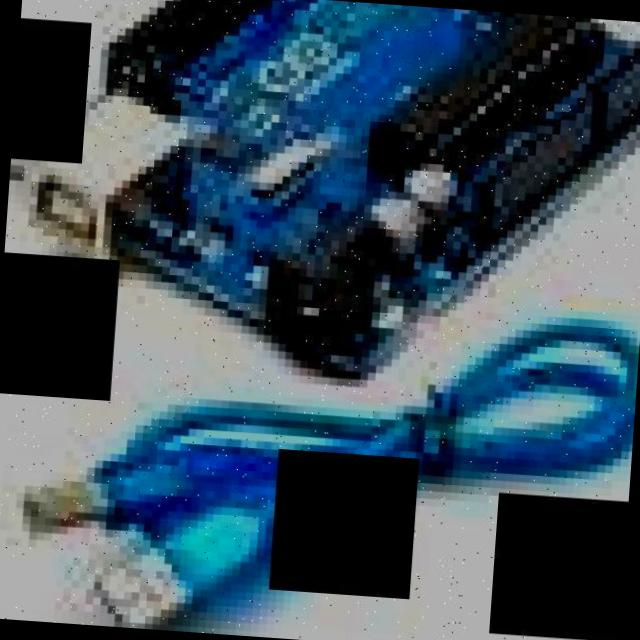arduino: (0, 0, 640, 417)
